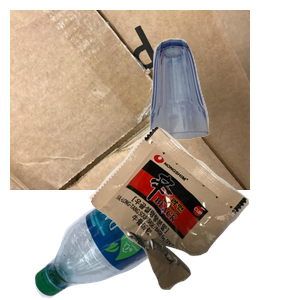cardboard: (10, 10, 250, 190)
glass: (147, 36, 300, 168)
plastic: (32, 154, 242, 300)
trash: (86, 124, 300, 300)
